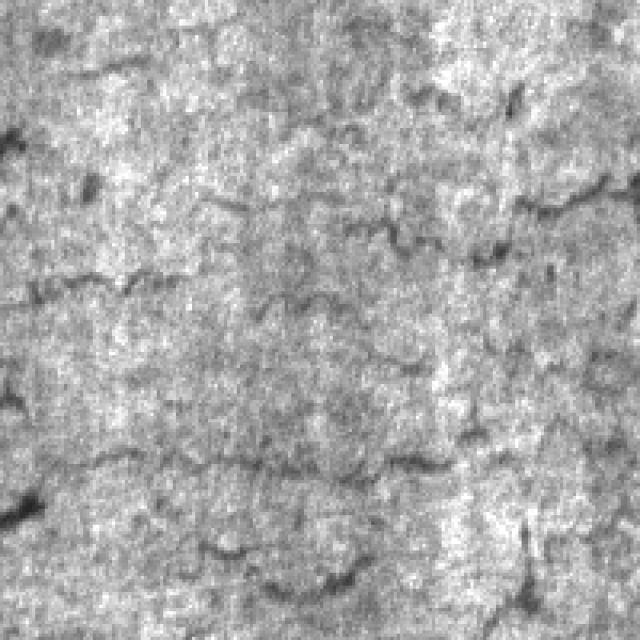crazing: (3, 163, 570, 483), (55, 403, 628, 611), (243, 70, 637, 262)
